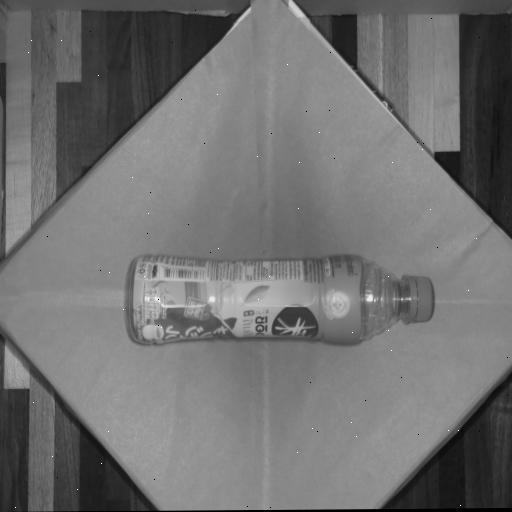bottle: (131, 255, 432, 347)
